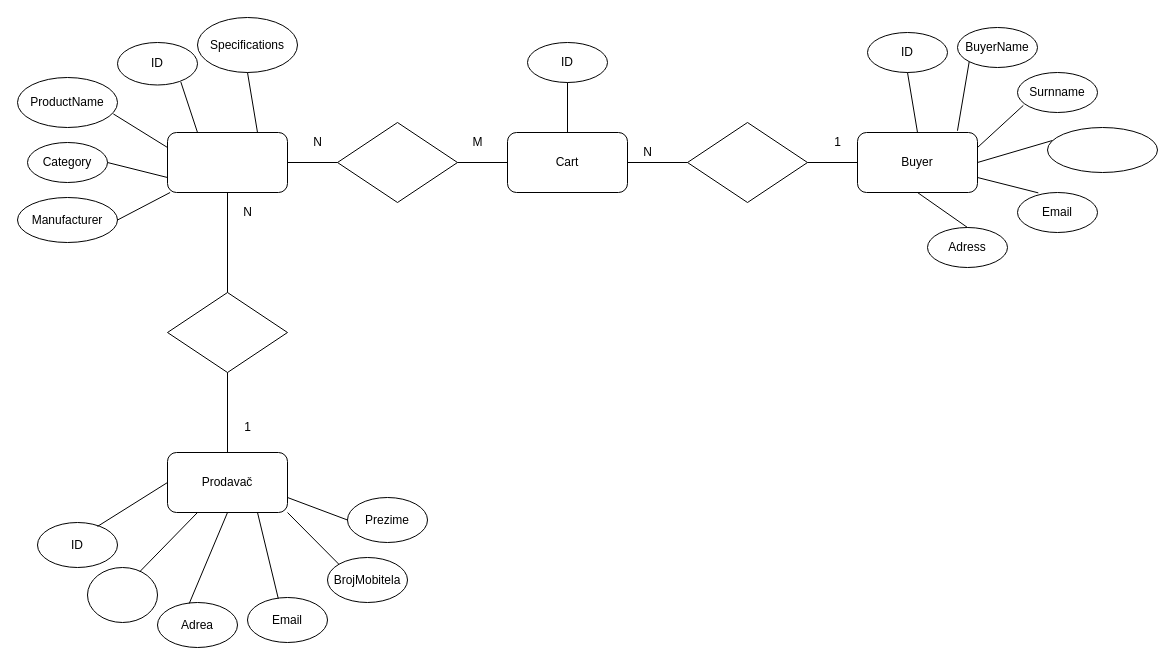
Some shapes in this 1175 by 665 pixel diagram are drawn without their labels. Here are the shapes that lost their labels. From the top down, the centre of each, then its label:
At point (227, 162): "Product".
At point (397, 162): "Is in".
At point (747, 162): "Belongs to".
At point (1102, 149): "PhoneNumber".
At point (227, 332): "Sells".
At point (122, 594): "Ime".
